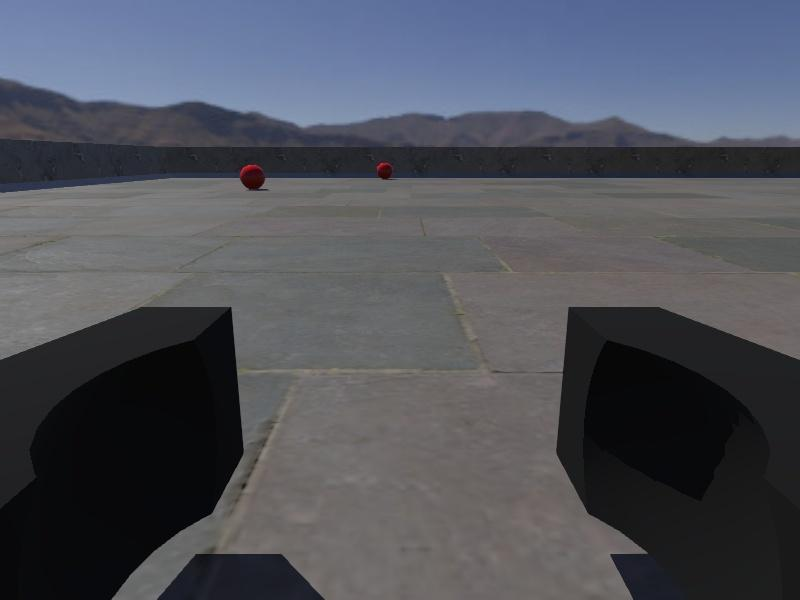red ball: (238, 163, 266, 192), (375, 161, 395, 181)
